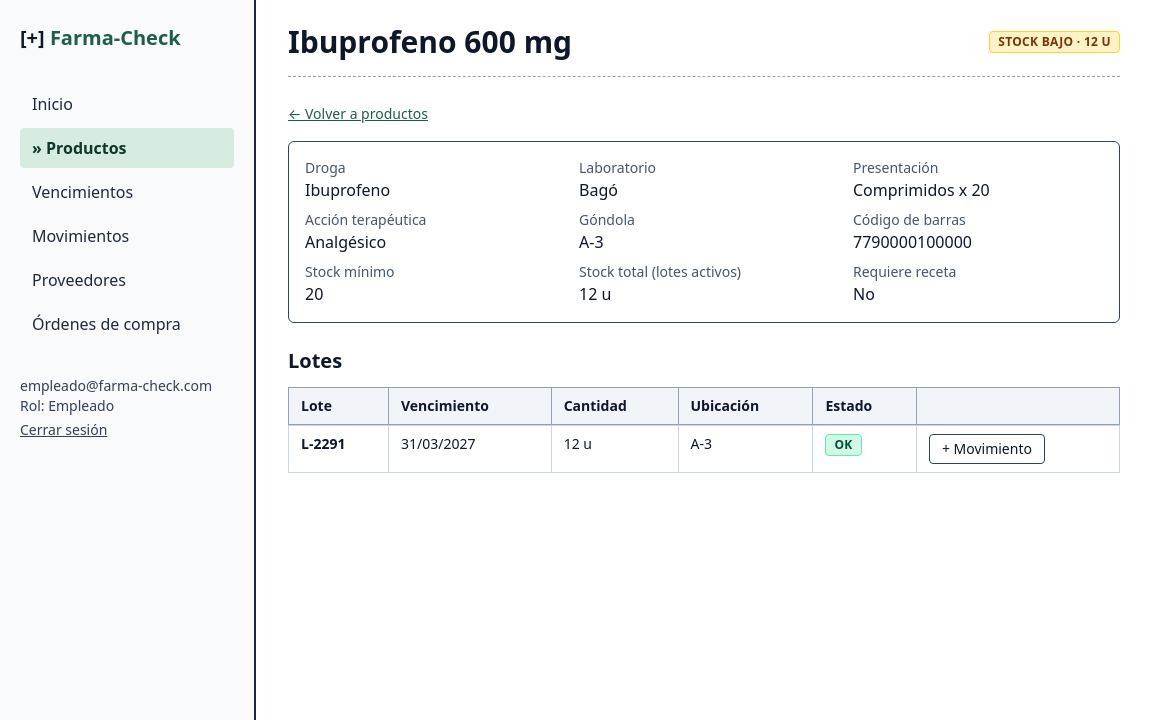
Registrar movimiento › muestra el error 422 de stock insuficiente debajo del campo cantidad
The width and height of the screenshot is (1152, 720).
Click the button with aria-label "Registrar movimiento en el lote L-2291" at (987, 449), box [929, 434, 1045, 464]
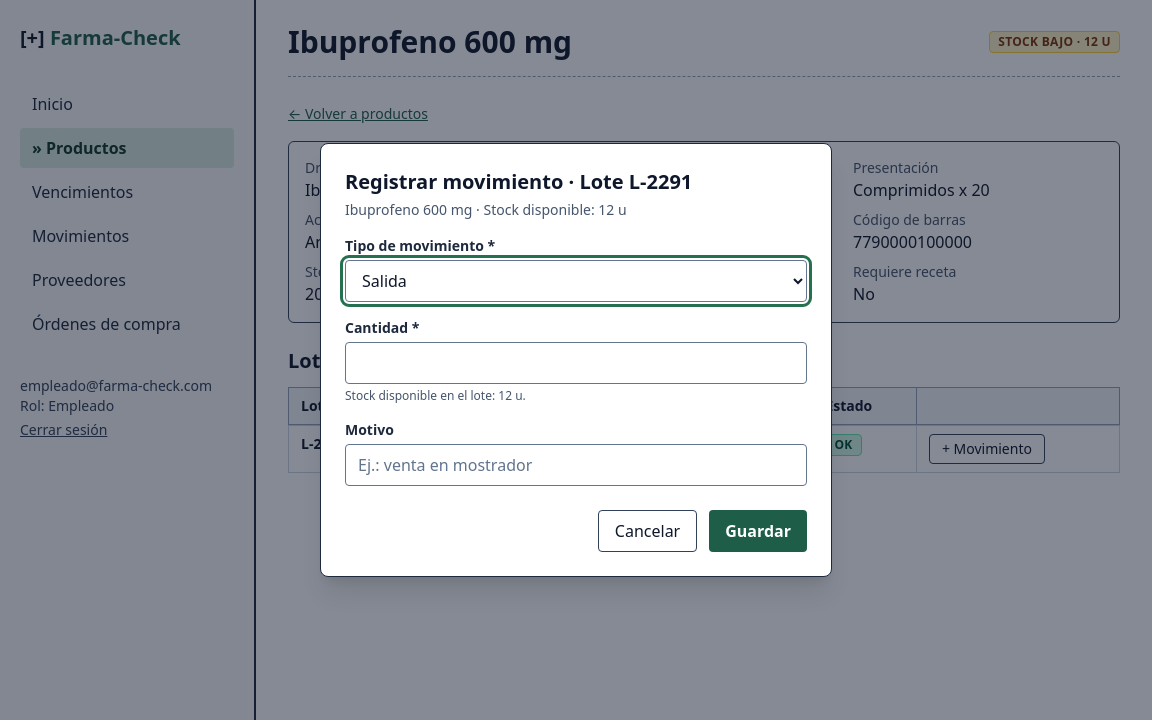
Type "20" into the number field labelled "Cantidad *" at (576, 363), box [345, 342, 807, 384]
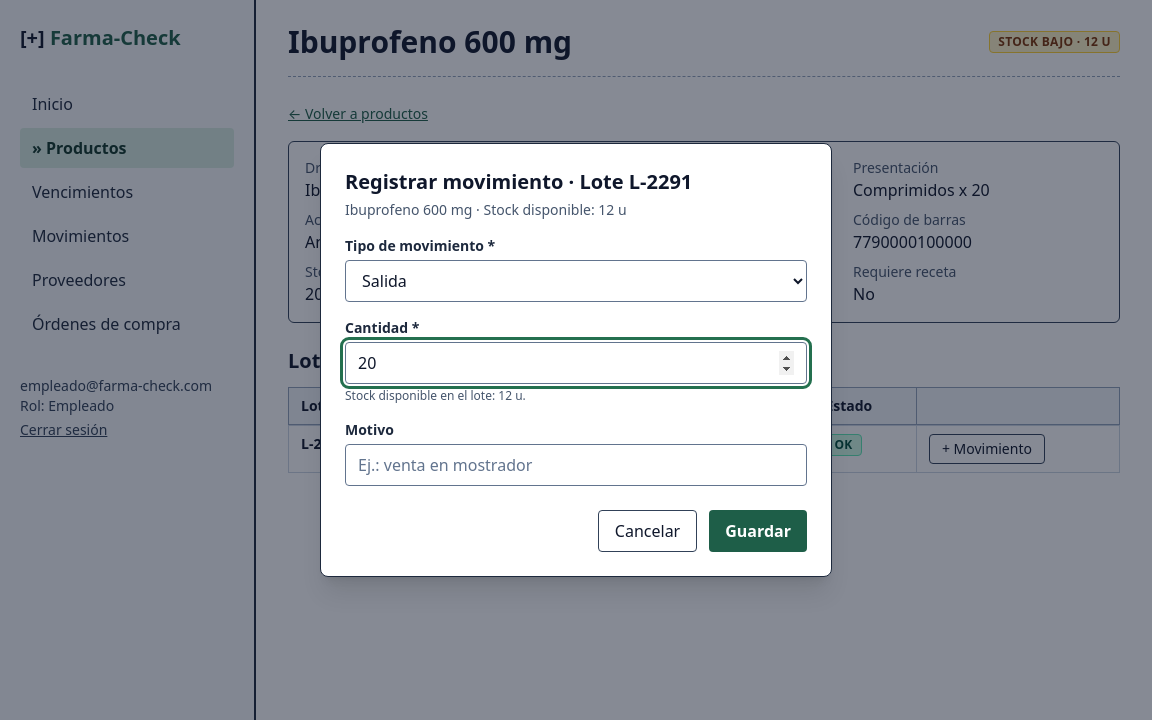
Click the button "Guardar" at (758, 531), box [709, 510, 807, 552]
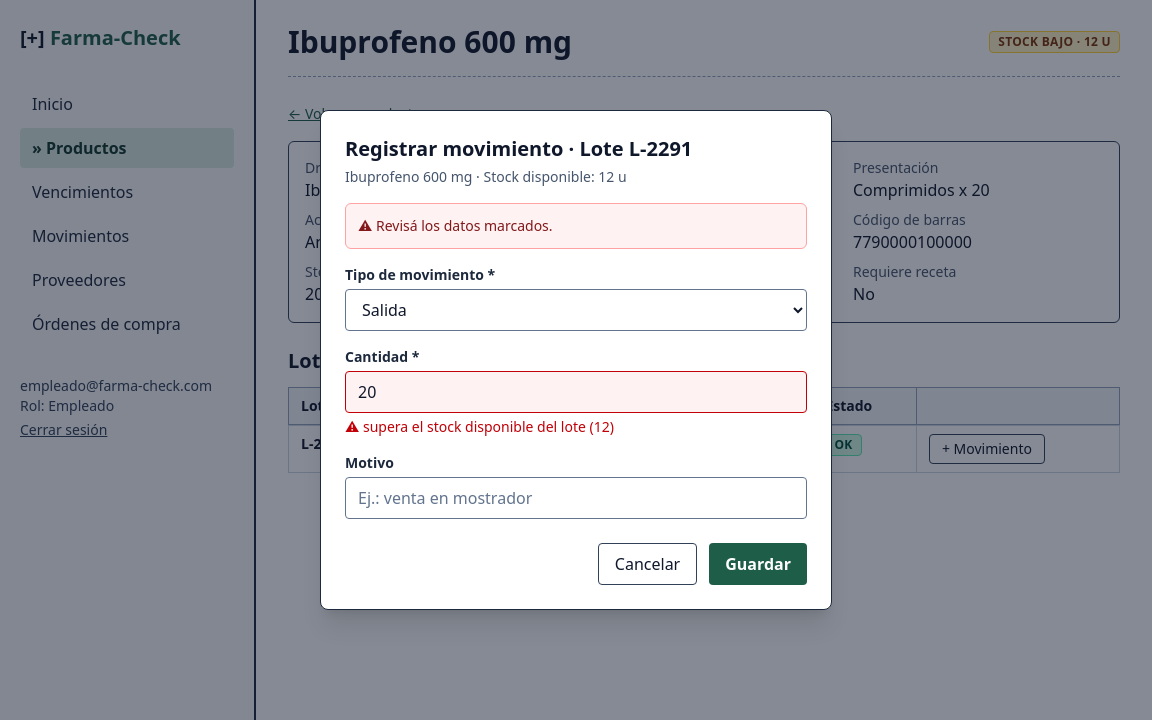
expect the button "Guardar" is enabled: met, box [709, 543, 807, 585]
expect the text "supera el stock disponible del lote (12)" is shown: met, box [363, 417, 614, 436]
expect the message shows "Revisá los datos marcados.": met, box [376, 216, 553, 235]
